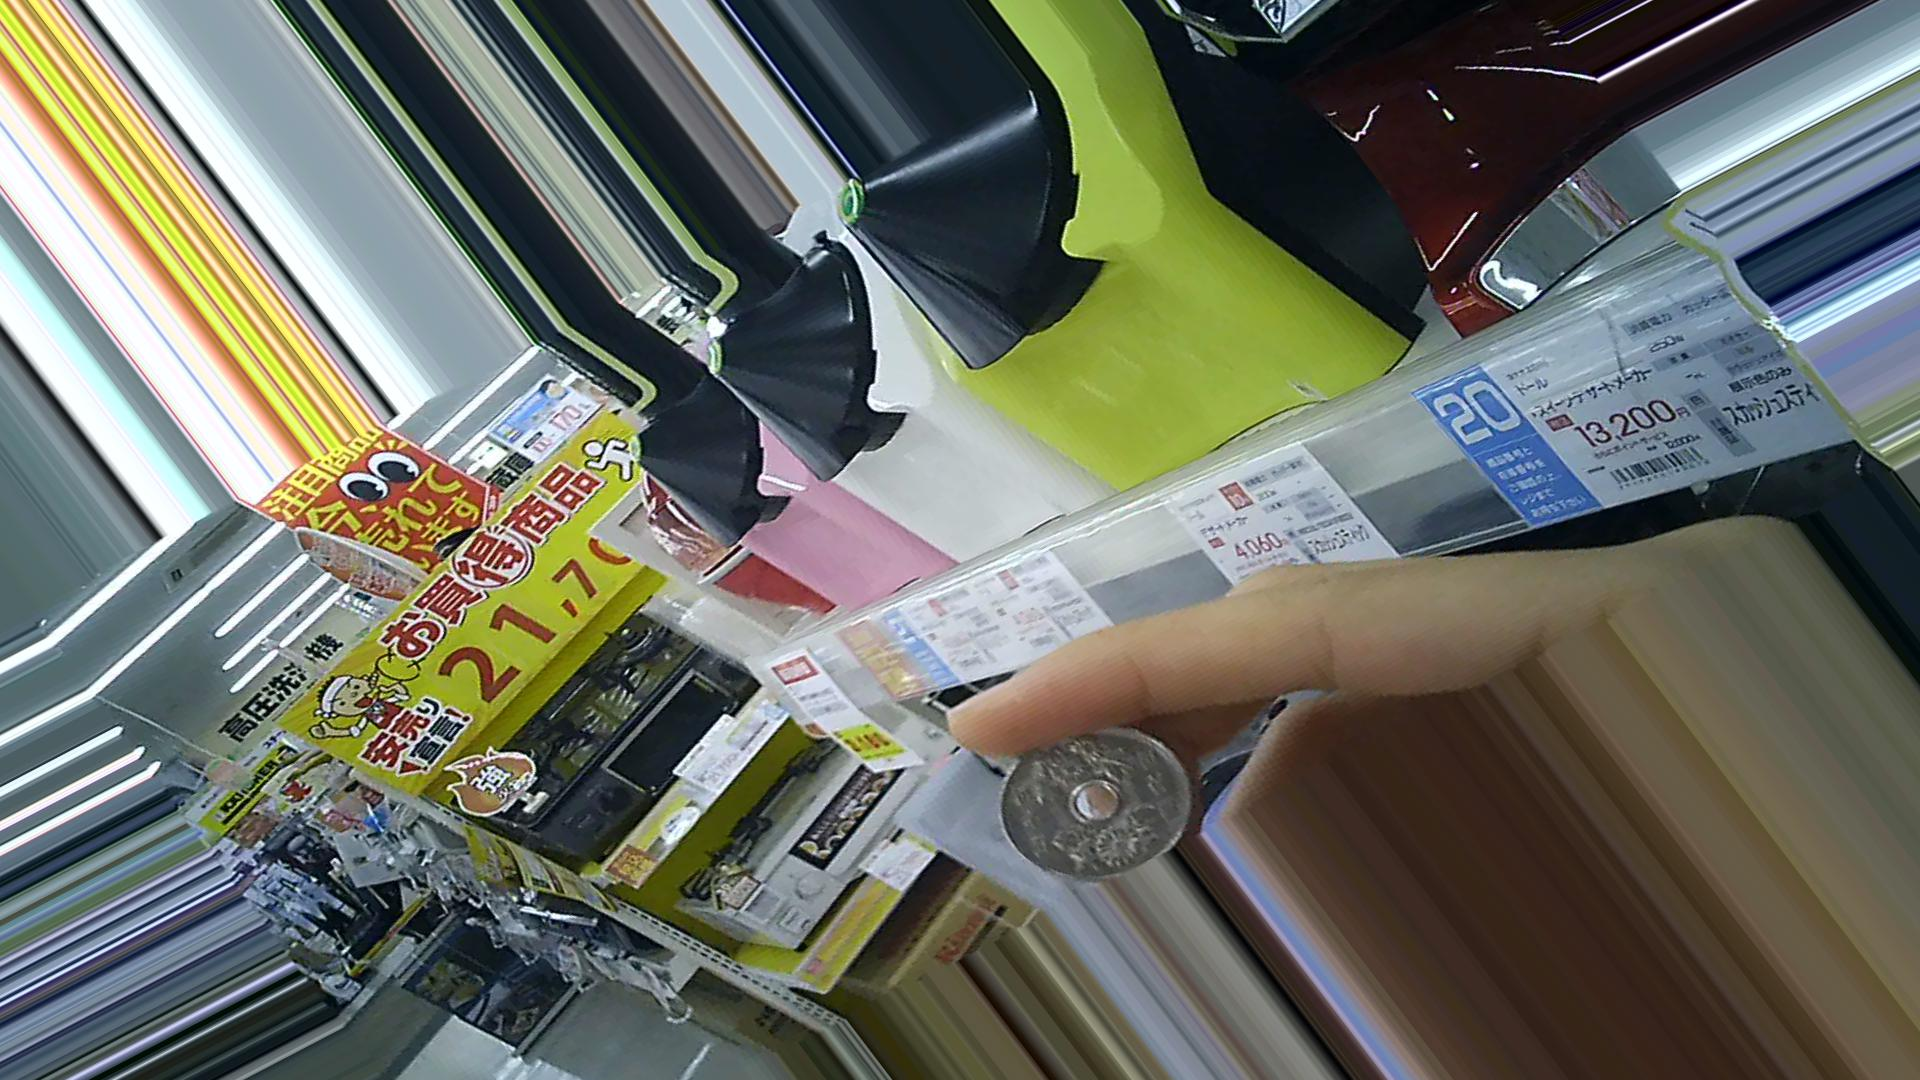50 Yen: (993, 729, 1189, 889)
